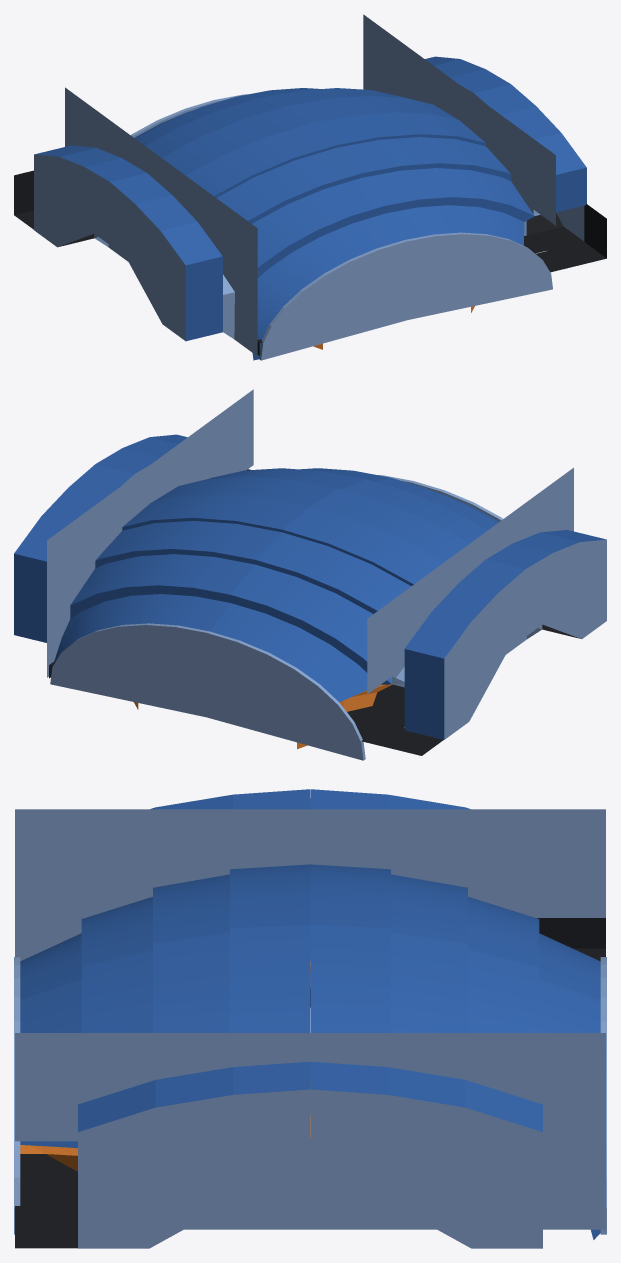
File: game_level_test_v05_3.FBX
The picture shows the model from 3 angles, top to bottom: view 1: azimuth 30°, elevation 25°; view 2: azimuth 150°, elevation 25°; view 3: azimuth 270°, elevation 25°; orthographic projection. The views are drawn at different scales.
Parts seen in each view (by area): view 1: Object520, Object518, Object519, Object510, Object525, Object513, Object515, Object516, Object508, Object496, Object512, Object498 (+8 smaller); view 2: Object525, Object517, Object498, Object520, Object511, Object496, Object516, Object515, Object493, Object508, Object526, Object519 (+6 smaller); view 3: Object494, Object514, Object510, Object496, Object526, Object519, Object498, Object508, Object520, Object525, Object493, Object512 (+7 smaller).
Boxes of the visible parts, box(x1,y1,x2,y2) form: Object520: box(186, 123, 403, 360); Object518: box(259, 232, 552, 360); Object519: box(311, 112, 534, 245); Object510: box(161, 158, 257, 356); Object525: box(134, 97, 309, 175); Object513: box(110, 173, 222, 341); Object515: box(110, 182, 185, 340); Object516: box(34, 154, 109, 247); Object508: box(459, 85, 555, 235); Object496: box(363, 14, 473, 120); Object512: box(474, 84, 586, 212); Object498: box(236, 88, 458, 123); Object525: box(210, 506, 443, 702); Object517: box(50, 623, 365, 760); Object498: box(54, 494, 309, 660); Object520: box(311, 477, 498, 561); Object511: box(404, 559, 525, 739); Object496: box(47, 465, 150, 677); Object516: box(444, 569, 525, 739); Object515: box(525, 539, 606, 638); Object493: box(14, 464, 134, 642); Object508: box(135, 389, 253, 502); Object526: box(367, 543, 470, 694); Object519: box(151, 468, 389, 506); Object494: box(310, 1089, 542, 1248); Object514: box(78, 1089, 310, 1248); Object510: box(15, 809, 310, 987); Object496: box(310, 1033, 605, 1229); Object526: box(310, 809, 605, 982); Object519: box(20, 924, 310, 1147); Object498: box(310, 924, 600, 1239); Object508: box(15, 1033, 310, 1229); Object520: box(20, 864, 310, 1000); Object525: box(310, 864, 600, 1000); Object493: box(310, 1061, 542, 1131); Object512: box(78, 1061, 310, 1131).
Size of the model in its own units: 11485 by 9585 by 4034.
